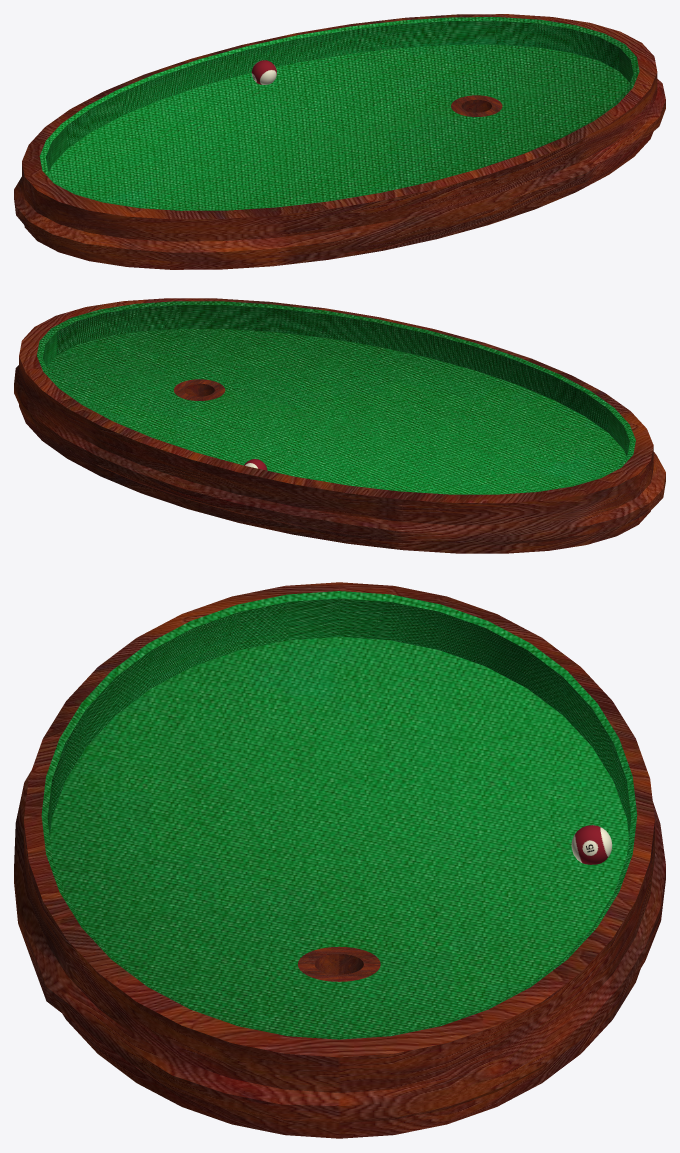
File: mesa de billar.fbx
The picture shows the model from 3 angles, top to bottom: view 1: azimuth 30°, elevation 25°; view 2: azimuth 150°, elevation 25°; view 3: azimuth 270°, elevation 25°; orthographic projection. The views are drawn at different scales.
Visible parts, largest first — view 1: Cylinder, Tube, Tube_2, Sphere; view 2: Cylinder, Tube, Tube_2; view 3: Cylinder, Tube, Tube_2, Sphere, Tube_3.
Boxes of the visible parts, x1,y1,x2,y2 form: Cylinder: [49, 44, 629, 210]; Tube: [14, 14, 665, 269]; Tube_2: [451, 95, 502, 116]; Sphere: [251, 60, 276, 84]; Cylinder: [46, 328, 626, 494]; Tube: [14, 298, 665, 553]; Tube_2: [174, 379, 225, 400]; Cylinder: [49, 637, 628, 1037]; Tube: [14, 582, 665, 1138]; Tube_2: [297, 946, 380, 981]; Sphere: [571, 825, 612, 864]; Tube_3: [314, 954, 363, 974].
Bounding box in the file's own units: 504 × 45.63 × 285.
Materials: 3 (3 with a texture image).
